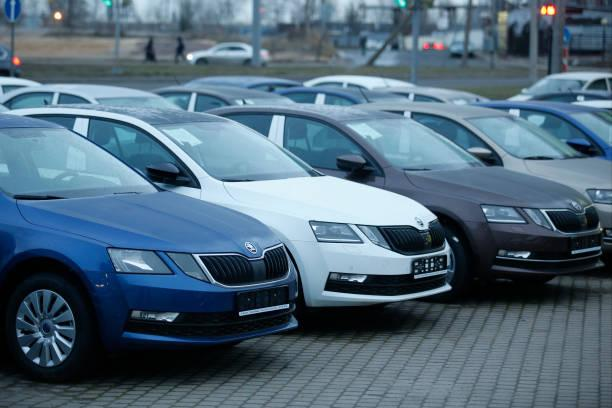skoda: (236, 238, 266, 256)
